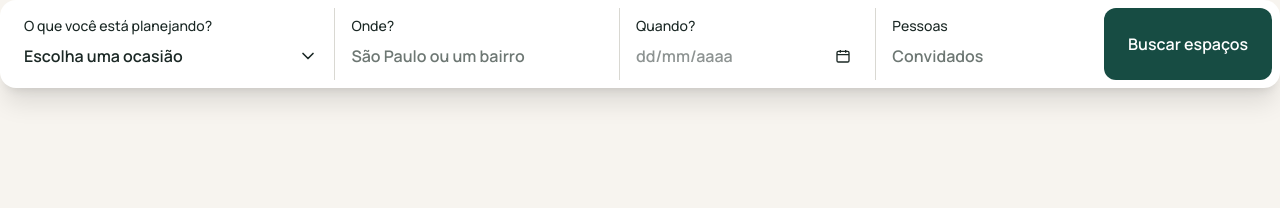
VenueSearch › ainda recusa um local que não existe no catálogo
Step 1. Type "Rio de Janeiro" into the field labelled "Onde?" → (477, 56), box x1=351 y1=40 x2=603 y2=72
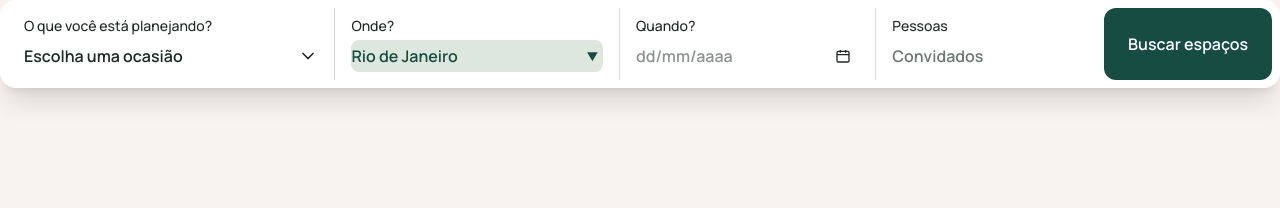
Step 2. Click the button "Buscar espaços" → (1188, 44), box x1=1104 y1=8 x2=1272 y2=80
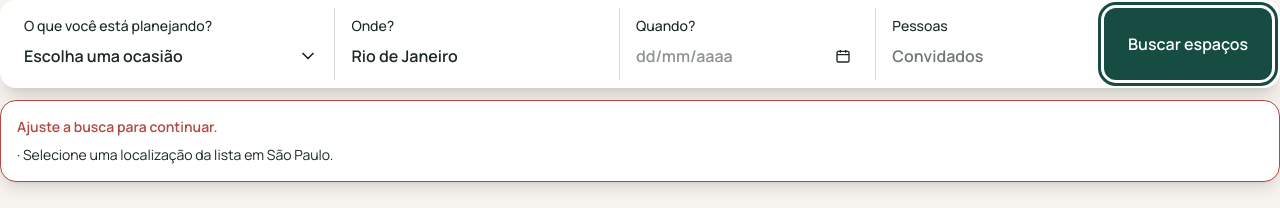
Expected: the message shows "Selecione uma localização da lista em São Paulo.", x1=23 y1=145 x2=333 y2=164
